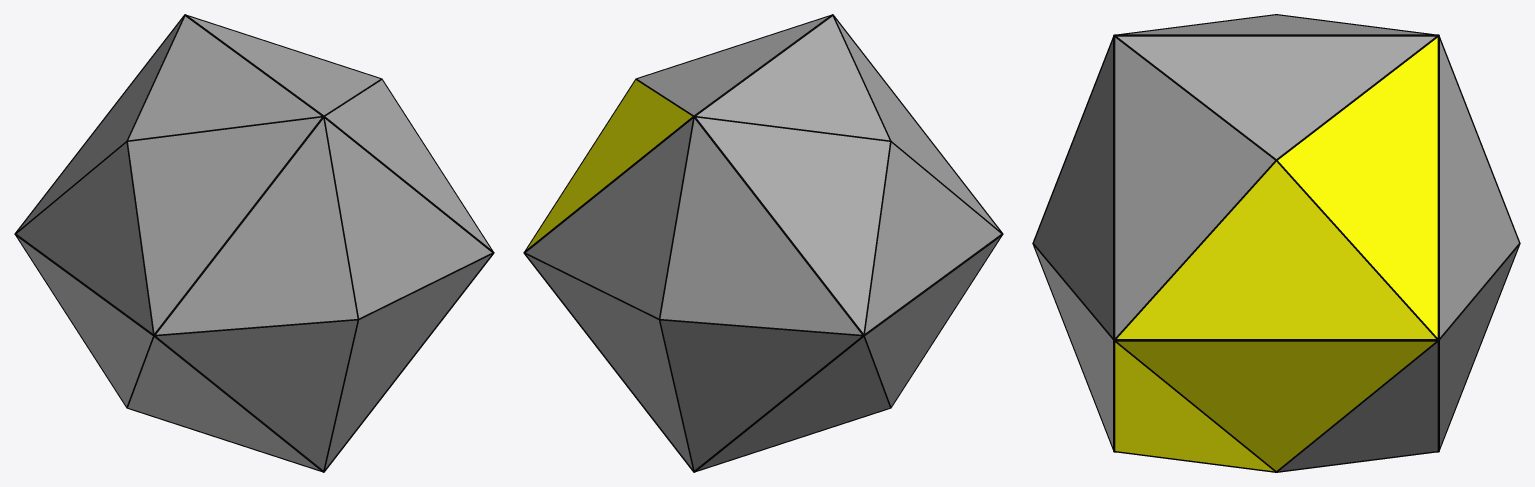
The model's file is TetrakisHexahedron_3.glb.
3 renders of one model, left to right at view 1: azimuth 30°, elevation 25°; view 2: azimuth 150°, elevation 25°; view 3: azimuth 270°, elevation 25°, orthographic. The views are drawn at different scales.
Size of the model in its own units: 3.02 by 3.02 by 3.19.
